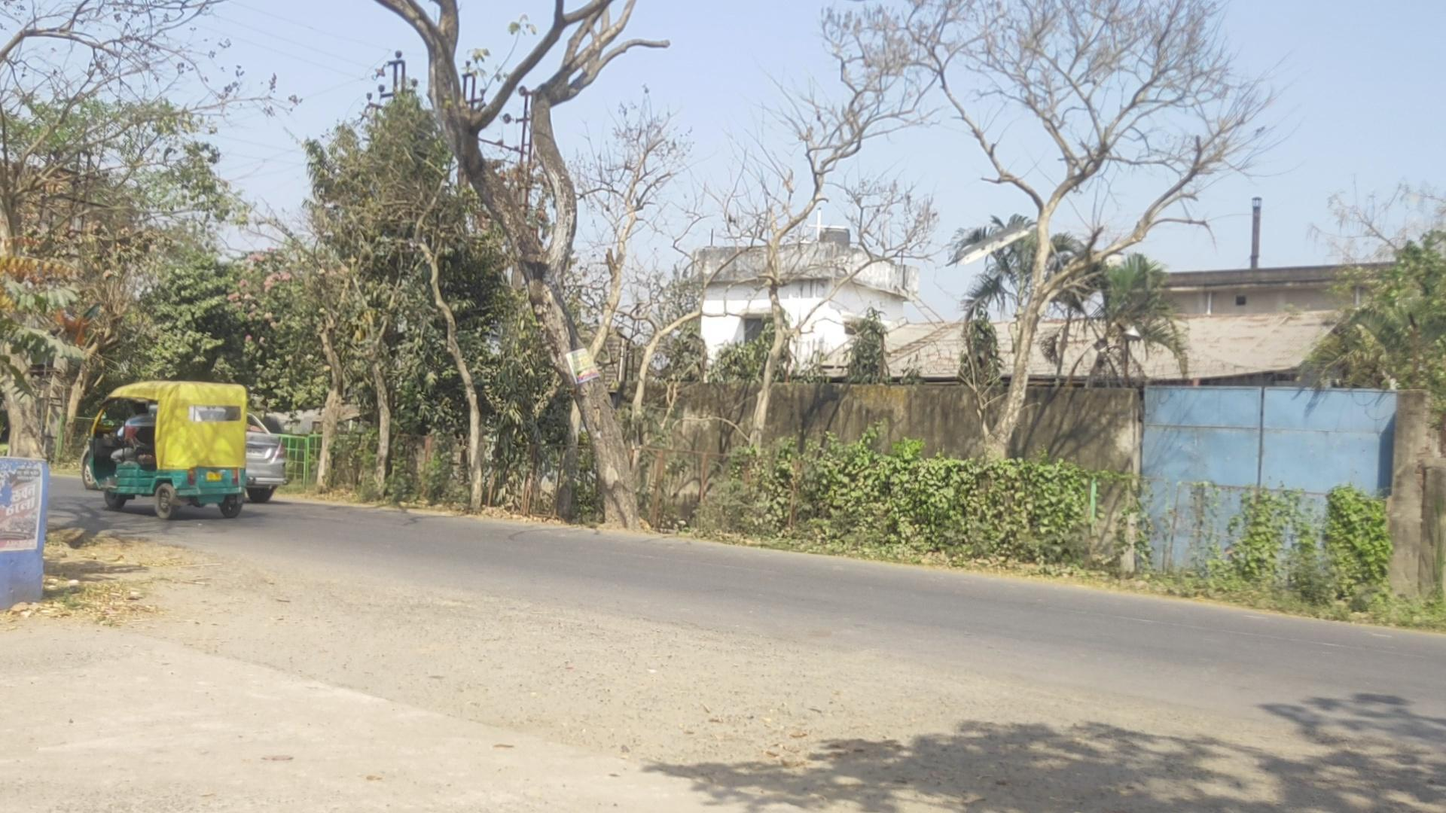Auto: (85, 380, 246, 521)
car: (80, 403, 289, 504)
